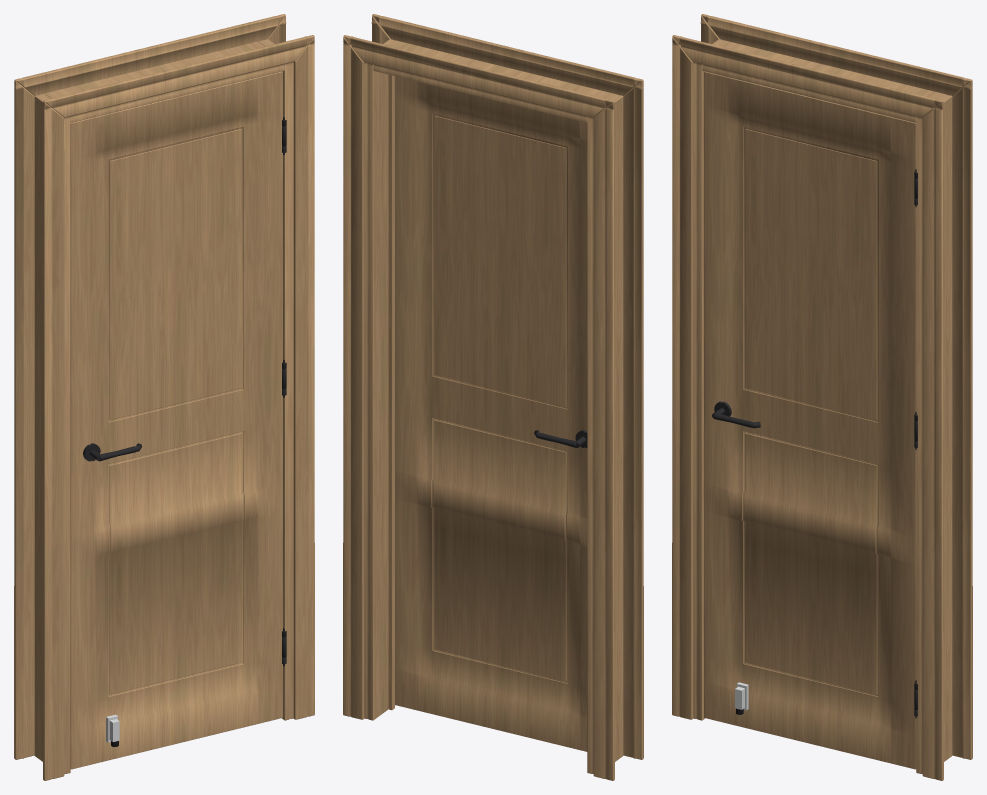
The model's file is mk_door_bed_ne_r.glb.
3 views of the same model, side by side, from view 1: azimuth 30°, elevation 25°; view 2: azimuth 150°, elevation 25°; view 3: azimuth 330°, elevation 25° (orthographic).
Parts seen in each view (by area): view 1: mk_door_bed_ne_r_leaf_body, mk_door_bed_ne_r_casing, mk_door_bed_ne_r_frame, mk_door_bed_ne_r_handle, mk_door_bed_ne_r_hinges; view 2: mk_door_bed_ne_r_leaf_body, mk_door_bed_ne_r_casing, mk_door_bed_ne_r_frame; view 3: mk_door_bed_ne_r_leaf_body, mk_door_bed_ne_r_casing, mk_door_bed_ne_r_frame, mk_door_bed_ne_r_handle.
Boxes of the visible parts, x1,y1,x2,y2 form: mk_door_bed_ne_r_leaf_body: [70, 71, 282, 769]; mk_door_bed_ne_r_casing: [14, 14, 314, 780]; mk_door_bed_ne_r_frame: [34, 39, 293, 773]; mk_door_bed_ne_r_handle: [83, 443, 141, 746]; mk_door_bed_ne_r_hinges: [282, 116, 286, 666]; mk_door_bed_ne_r_leaf_body: [395, 76, 587, 751]; mk_door_bed_ne_r_casing: [343, 14, 643, 780]; mk_door_bed_ne_r_frame: [364, 39, 623, 773]; mk_door_bed_ne_r_leaf_body: [704, 71, 916, 769]; mk_door_bed_ne_r_casing: [672, 14, 972, 780]; mk_door_bed_ne_r_frame: [693, 39, 952, 773]; mk_door_bed_ne_r_handle: [712, 401, 760, 714].
Size of the model in its own units: 0.8794 by 2.11 by 0.2148.
4 materials, 1 textured.
